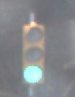Green: (20, 17, 51, 91)
